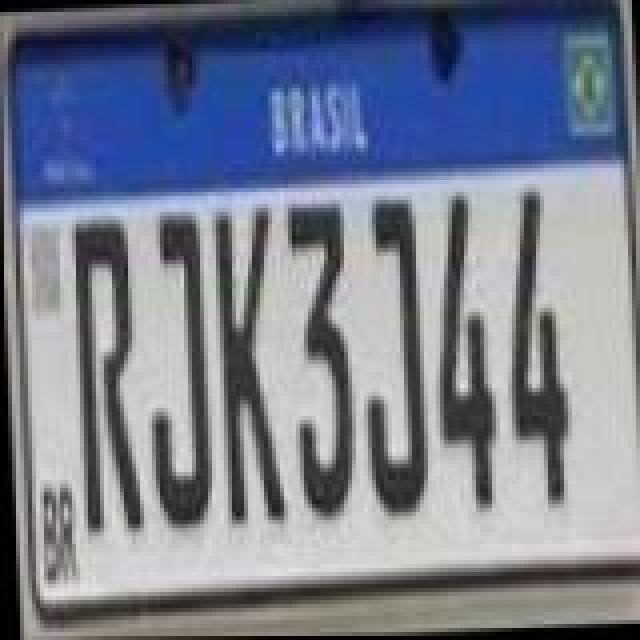3: (280, 194, 356, 518)
4: (498, 186, 570, 506), (426, 192, 498, 508)
J: (134, 208, 214, 536), (352, 190, 428, 518)
K: (208, 202, 284, 526)
R: (68, 218, 144, 530)
